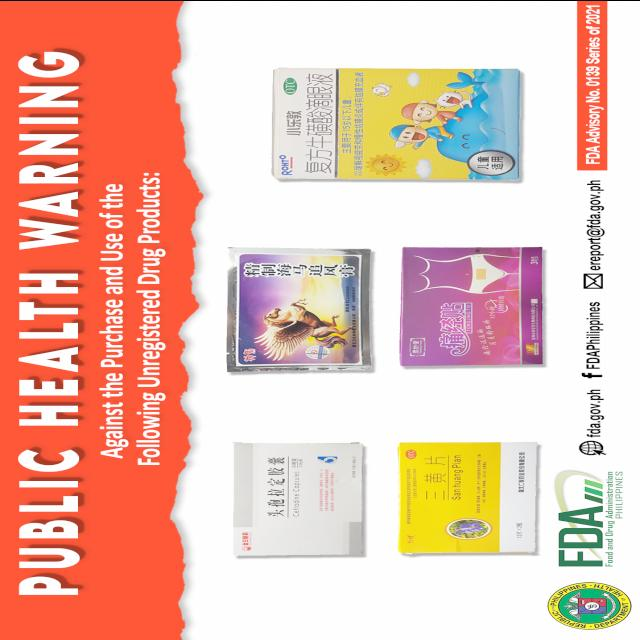counterfeit: (264, 58, 532, 180), (220, 239, 372, 379), (396, 242, 542, 369), (399, 434, 541, 558), (230, 438, 368, 558)
